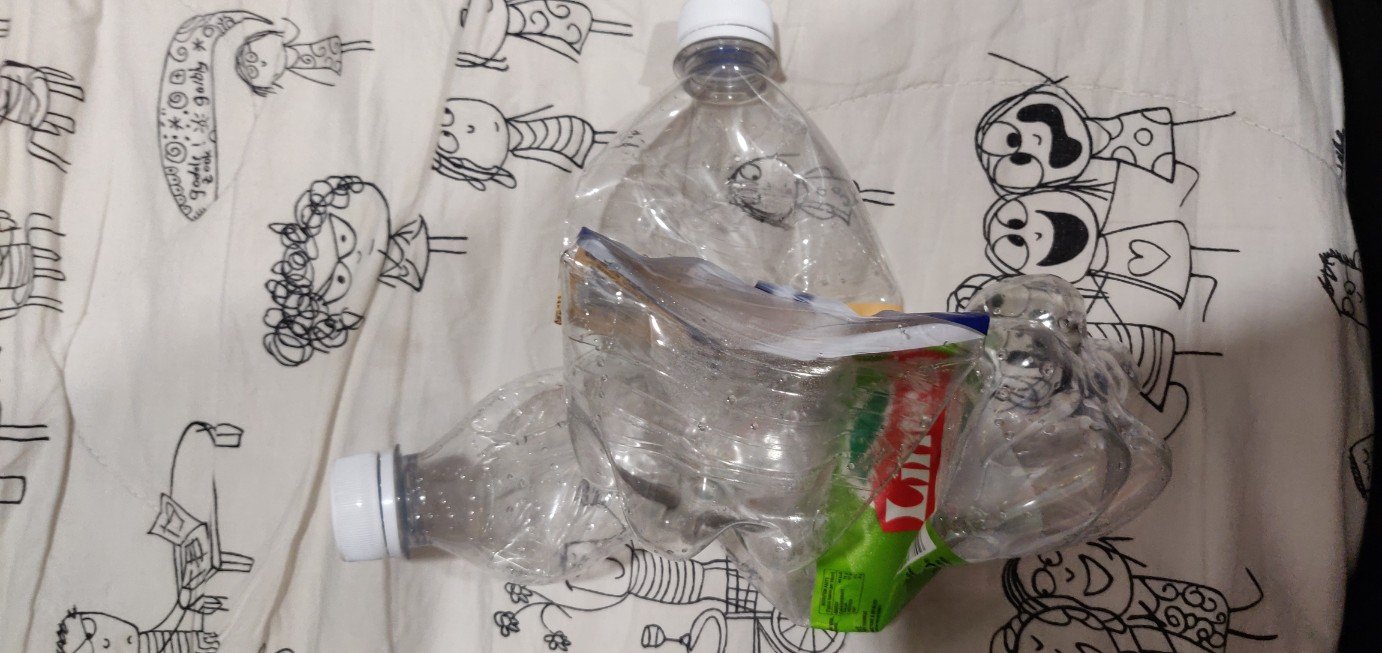Electronics: (290, 256, 1209, 631), (542, 4, 949, 653)
